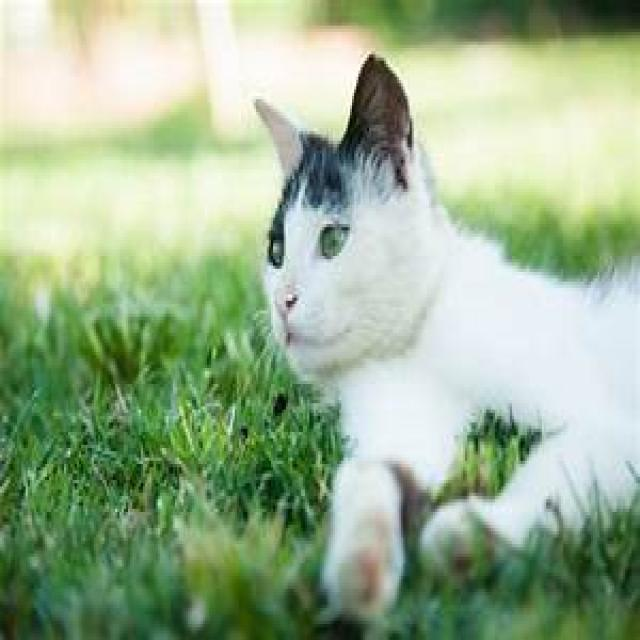animal: (254, 49, 640, 590)
